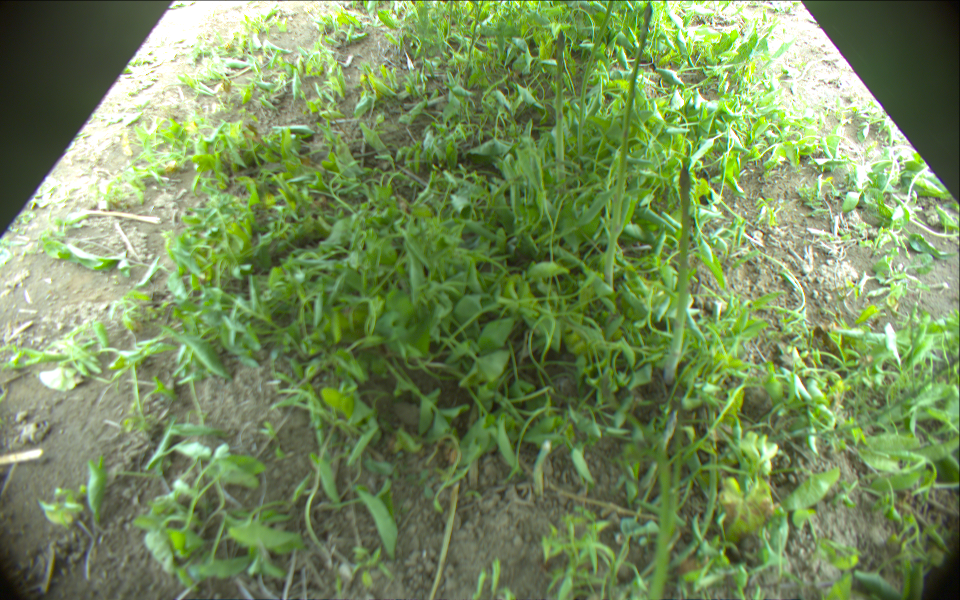aspa: (599, 374, 673, 600), (605, 1, 652, 290), (664, 166, 692, 384), (578, 1, 615, 162), (463, 1, 487, 85), (556, 30, 568, 194), (446, 1, 455, 41)
